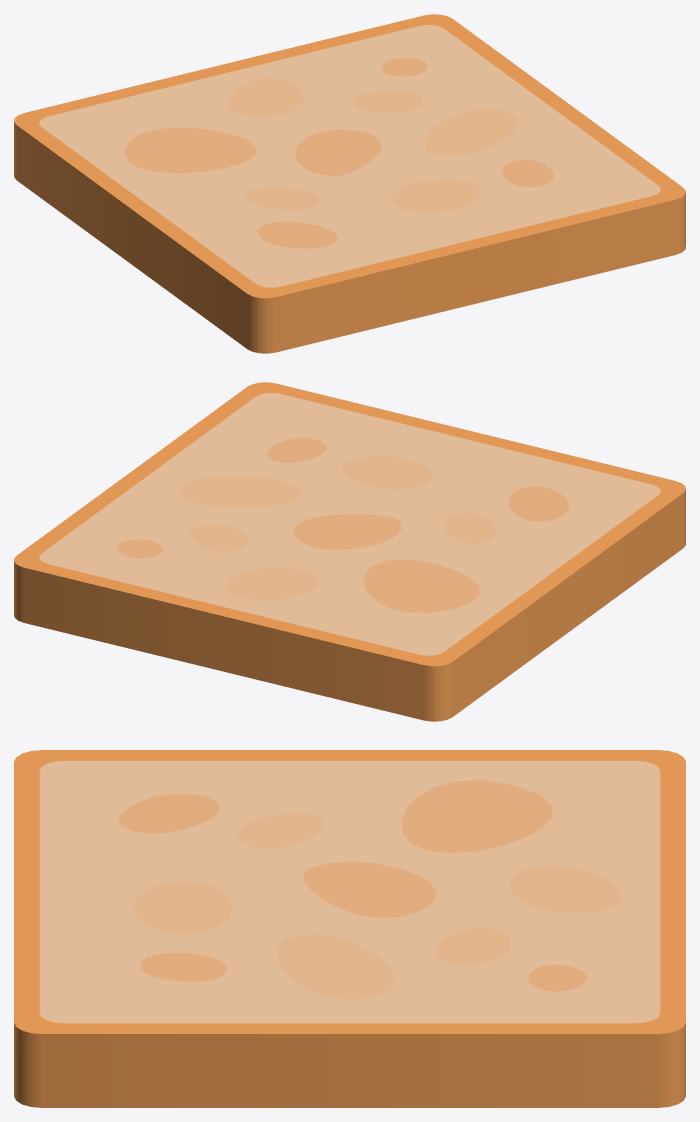
File: Bread A.fbx
3 renders of one model, top to bottom at view 1: azimuth 30°, elevation 25°; view 2: azimuth 150°, elevation 25°; view 3: azimuth 270°, elevation 25°, orthographic. The views are drawn at different scales.
Visible parts, largest first — view 1: Bread A; view 2: Bread A; view 3: Bread A.
Boxes of the visible parts, bbox=[...] form: Bread A: bbox=[14, 14, 685, 353]; Bread A: bbox=[14, 382, 685, 721]; Bread A: bbox=[14, 750, 685, 1107].
Bounding box in the file's own units: 0.6502 × 0.0789 × 0.6502.
